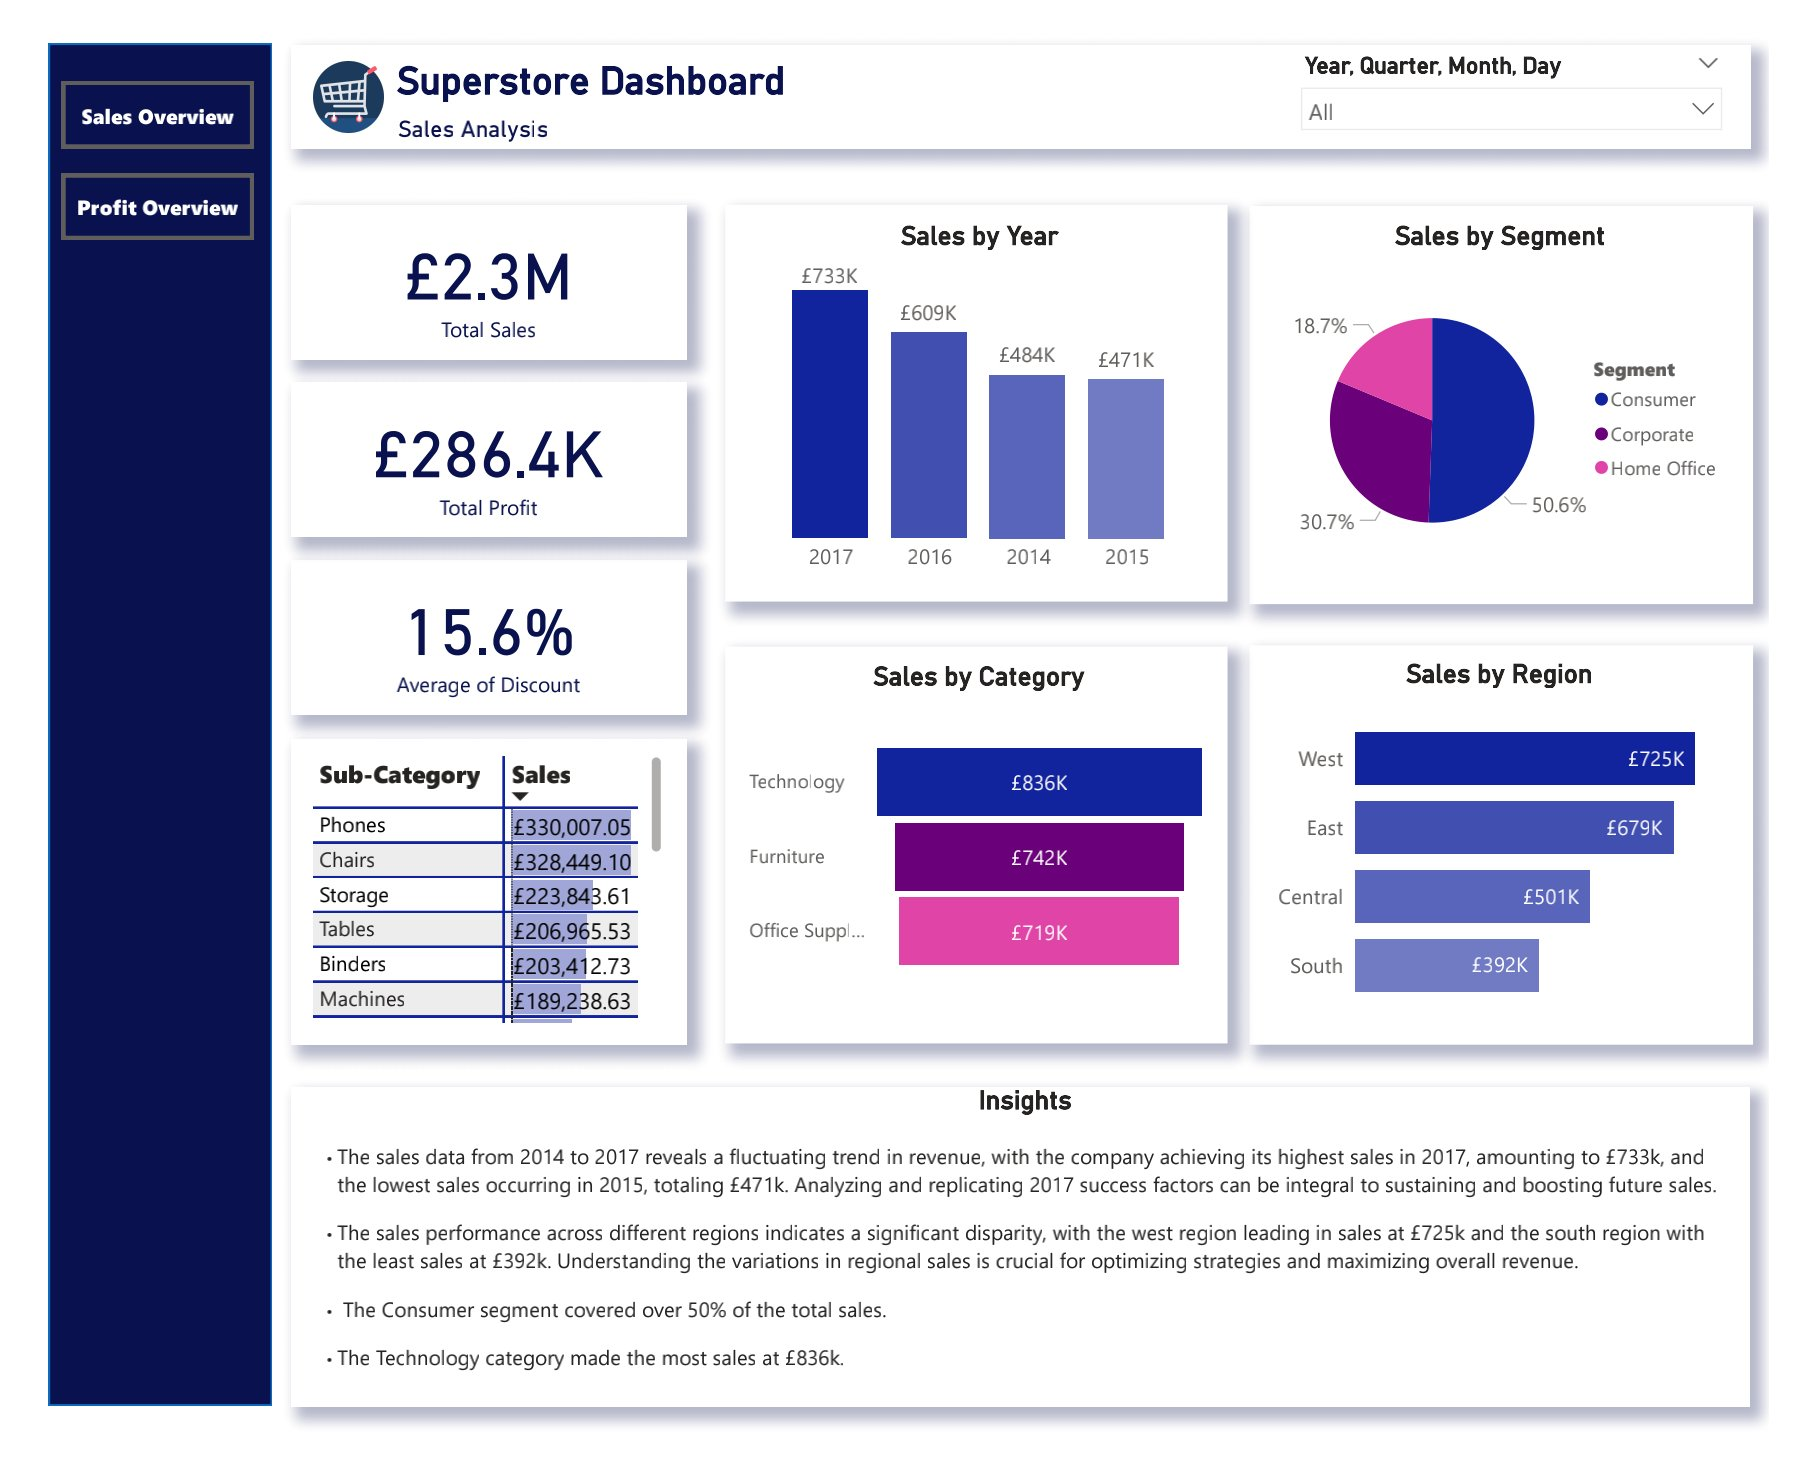

Layout of this report page (visuals, bound fields, positions):
{"tool":"powerbi","page":{"name":"Page 1","canvas":[1350,1090],"ordinal":0},"visuals":[{"type":"shape","box":[202,10.6,1132.8,80.5],"z":0},{"type":"card","fields":{"Values":["Sum(Orders.Sales)"]},"box":[201.7,135,306.7,120],"z":0,"group":"g6"},{"type":"shape","box":[539.1,135.2,390,308],"z":0,"group":"g5"},{"type":"shape","box":[946.1,136.7,390.9,309],"z":0,"group":"g2"},{"type":"shape","box":[946.1,476.8,391.1,309.6],"z":0,"group":"g4"},{"type":"group","id":"g1","title":"Group 6","box":[539.1,478.3,390,308.3],"z":0,"group":"g3"},{"type":"shape","box":[539.1,478.3,390.4,308.3],"z":0,"group":"g1"},{"type":"shape","box":[201.7,550,306.7,236.7],"z":0,"group":"g7"},{"type":"shape","box":[14.1,10.1,173.6,1057.7],"z":1000},{"type":"columnChart","title":"Sales by Year","fields":{"Y":["Sum(Orders.Sales)"],"Category":["Orders.Order Date.Variation.Date Hierarchy.Year"]},"box":[555,147,363.5,282.6],"z":1000,"group":"g5"},{"type":"pieChart","fields":{"Category":["Orders.Segment"],"Y":["Sum(Orders.Sales)"]},"box":[958.5,147.4,364.7,287.7],"z":1000,"group":"g2"},{"type":"barChart","title":"Sales by Region","fields":{"Category":["Orders.Region"],"Y":["Sum(Orders.Sales)"]},"box":[956.5,486.6,367.4,286.7],"z":1000,"group":"g4"},{"type":"funnel","title":"Sales by Category","fields":{"Category":["Orders.Category"],"Y":["Sum(Orders.Sales)"]},"box":[552.8,488.9,366.5,280.6],"z":1000,"group":"g1"},{"type":"pivotTable","fields":{"Rows":["Orders.Sub-Category"],"Values":["Sum(Orders.Sales)"]},"box":[213.4,558.3,281.7,216.7],"z":1000,"group":"g7"},{"type":"group","id":"g2","title":"Group 1","box":[946.1,136.7,388.7,309.8],"z":2000,"group":"g6"},{"type":"shape","box":[201.9,819.5,1132.4,248.3],"z":2000},{"type":"actionButton","box":[24.3,39.5,148.8,51.6],"z":3000},{"type":"card","fields":{"Values":["Avg(Orders.Discount)"]},"box":[201.7,411.7,306.7,120],"z":3000,"group":"g6"},{"type":"actionButton","box":[24.3,110.9,148.8,51.6],"z":4000},{"type":"card","fields":{"Values":["Sum(Orders.Profit)"]},"box":[201.7,273.3,306.7,120],"z":4000,"group":"g6"},{"type":"image","box":[214.1,10.6,65.3,80.5],"z":5000},{"type":"group","id":"g3","title":"Group 3","box":[539.1,478.3,390.3,308.3],"z":5000,"group":"g6"},{"type":"textbox","title":"Profit Analysis","box":[279.4,65.9,342.2,25.1],"z":6000},{"type":"group","id":"g4","title":"Group 4","box":[946.1,476.8,391.8,308.3],"z":6000,"group":"g6"},{"type":"textbox","title":"Superstore Dashboard","box":[279.4,21.3,403.9,44],"z":7000},{"type":"group","id":"g5","title":"Group 2","box":[539.1,135.2,390.3,308.3],"z":7000,"group":"g6"},{"type":"slicer","fields":{"Values":["Orders.Order Date.Variation.Date Hierarchy.Year","Orders.Order Date.Variation.Date Hierarchy.Quarter","Orders.Order Date.Variation.Date Hierarchy.Month","Orders.Order Date.Variation.Date Hierarchy.Day"]},"box":[976.4,11,346.9,80.1],"z":8000},{"type":"textbox","title":"Sales Analysis","box":[279.4,65.3,341.7,25.8],"z":8000,"group":"g6"},{"type":"group","id":"g6","title":"Group 7","box":[201.7,65.3,1136.1,996.6],"z":9000},{"type":"group","id":"g7","title":"Group 5","box":[201.7,550,306.7,236.7],"z":9000,"group":"g6"},{"type":"textbox","title":"Insights","box":[214.5,813.6,1114.2,248.3],"z":10000,"group":"g6"}]}

Visuals, with their boxes in screenshot pixels (x1, y1, x2, y2), scaled from the page's 1350x1090 canvas onto the 1800x1465 screenshot:
shape: locate(269, 14, 1780, 122)
card - Sum(Orders.Sales): locate(269, 181, 678, 343)
shape: locate(719, 182, 1239, 596)
shape: locate(1261, 184, 1783, 599)
shape: locate(1261, 641, 1783, 1057)
"Group 6" group: locate(719, 643, 1239, 1057)
shape: locate(719, 643, 1239, 1057)
shape: locate(269, 739, 678, 1057)
shape: locate(19, 14, 250, 1435)
"Sales by Year" columnChart: locate(740, 198, 1225, 577)
pieChart - Orders.Segment x Sum(Orders.Sales): locate(1278, 198, 1764, 585)
"Sales by Region" barChart: locate(1275, 654, 1765, 1039)
"Sales by Category" funnel: locate(737, 657, 1226, 1034)
pivotTable - Orders.Sub-Category x Sum(Orders.Sales): locate(285, 750, 660, 1042)
"Group 1" group: locate(1261, 184, 1780, 600)
shape: locate(269, 1101, 1779, 1435)
actionButton: locate(32, 53, 231, 122)
card - Avg(Orders.Discount): locate(269, 553, 678, 715)
actionButton: locate(32, 149, 231, 218)
card - Sum(Orders.Profit): locate(269, 367, 678, 529)
image: locate(285, 14, 373, 122)
"Group 3" group: locate(719, 643, 1239, 1057)
"Profit Analysis" textbox: locate(373, 89, 829, 122)
"Group 4" group: locate(1261, 641, 1784, 1055)
"Superstore Dashboard" textbox: locate(373, 29, 911, 88)
"Group 2" group: locate(719, 182, 1239, 596)
slicer - Orders.Order Date.Variation.Date Hierarchy.Year x Orders.Order Date.Variation.Date Hierarchy.Quarter: locate(1302, 15, 1764, 122)
"Sales Analysis" textbox: locate(373, 88, 828, 122)
"Group 7" group: locate(269, 88, 1784, 1427)
"Group 5" group: locate(269, 739, 678, 1057)
"Insights" textbox: locate(286, 1094, 1772, 1427)
